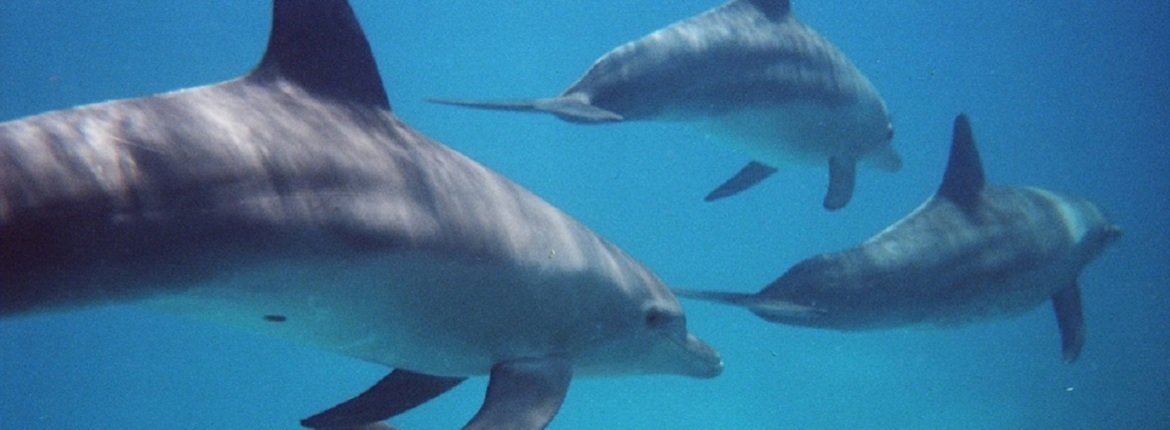dolphin: (1, 4, 749, 425), (663, 115, 1124, 394), (429, 1, 919, 206)
